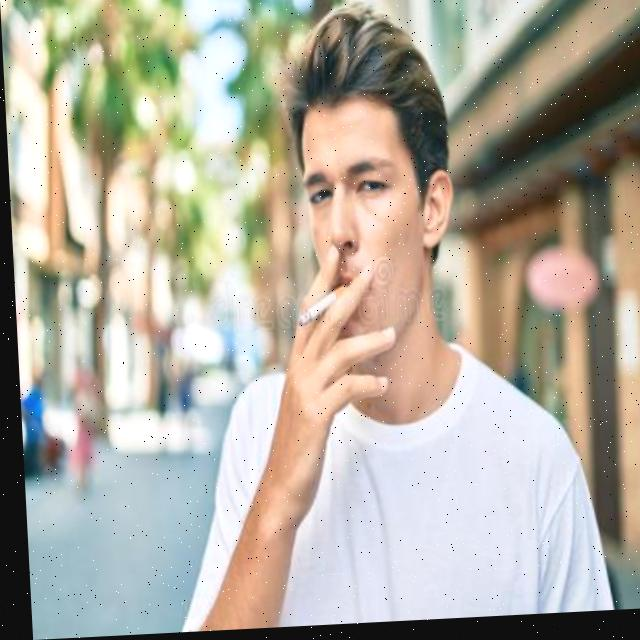cigarette: (292, 286, 347, 333)
